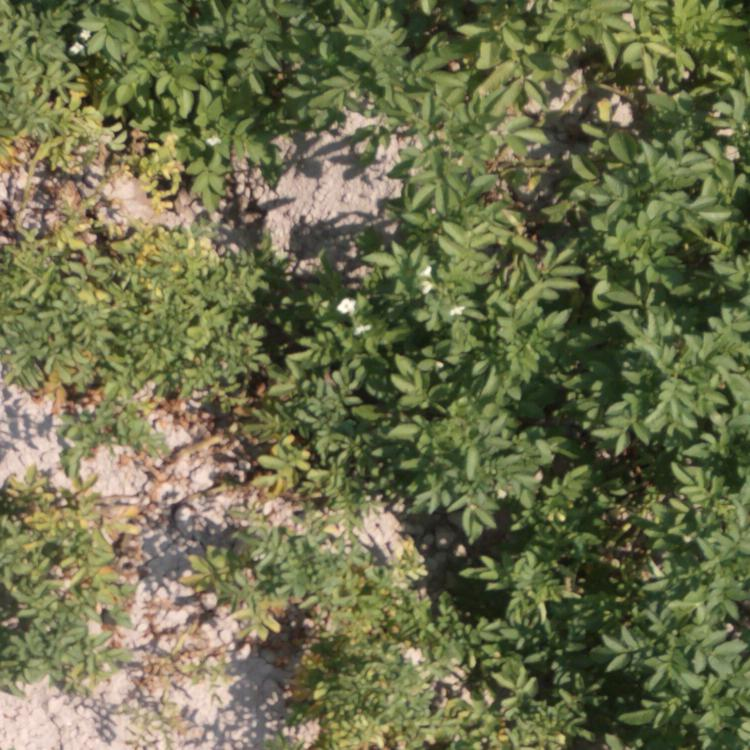healthy: (511, 5, 750, 383), (514, 389, 750, 744), (90, 1, 511, 123), (402, 153, 513, 520), (298, 281, 399, 497)
stressed: (1, 230, 274, 412), (330, 558, 501, 750), (1, 473, 139, 679), (1, 1, 93, 221), (197, 513, 322, 647), (95, 122, 230, 225), (50, 417, 180, 467), (214, 432, 301, 504)
